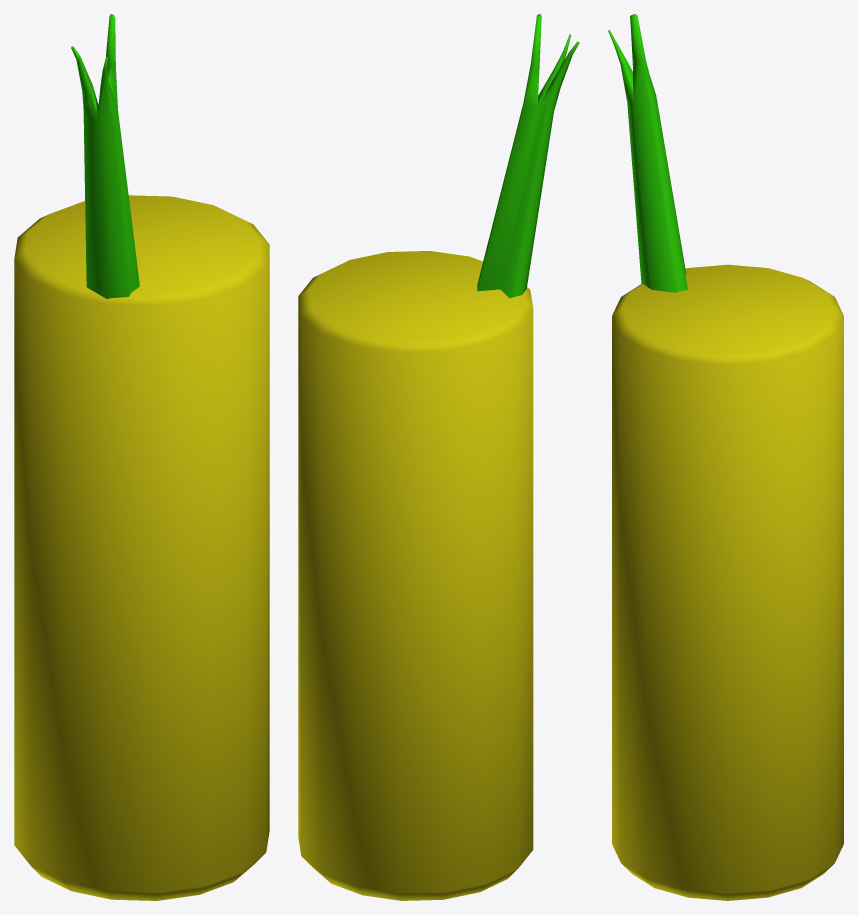
The model's file is BHP_MOD_DRI_Bloody_Mary.fbx.
3 views of the same model, side by side, from view 1: azimuth 30°, elevation 25°; view 2: azimuth 150°, elevation 25°; view 3: azimuth 270°, elevation 25° (orthographic). The views are drawn at different scales.
Parts seen in each view (by area): view 1: BHP_MOD_Bloody_Mary; view 2: BHP_MOD_Bloody_Mary; view 3: BHP_MOD_Bloody_Mary.
Boxes of the visible parts, box(x1,y1,x2,y2) form: BHP_MOD_Bloody_Mary: box(14, 14, 269, 900); BHP_MOD_Bloody_Mary: box(298, 14, 579, 900); BHP_MOD_Bloody_Mary: box(608, 14, 843, 900).
Size of the model in its own units: 0.0893 by 0.3245 by 0.086.
